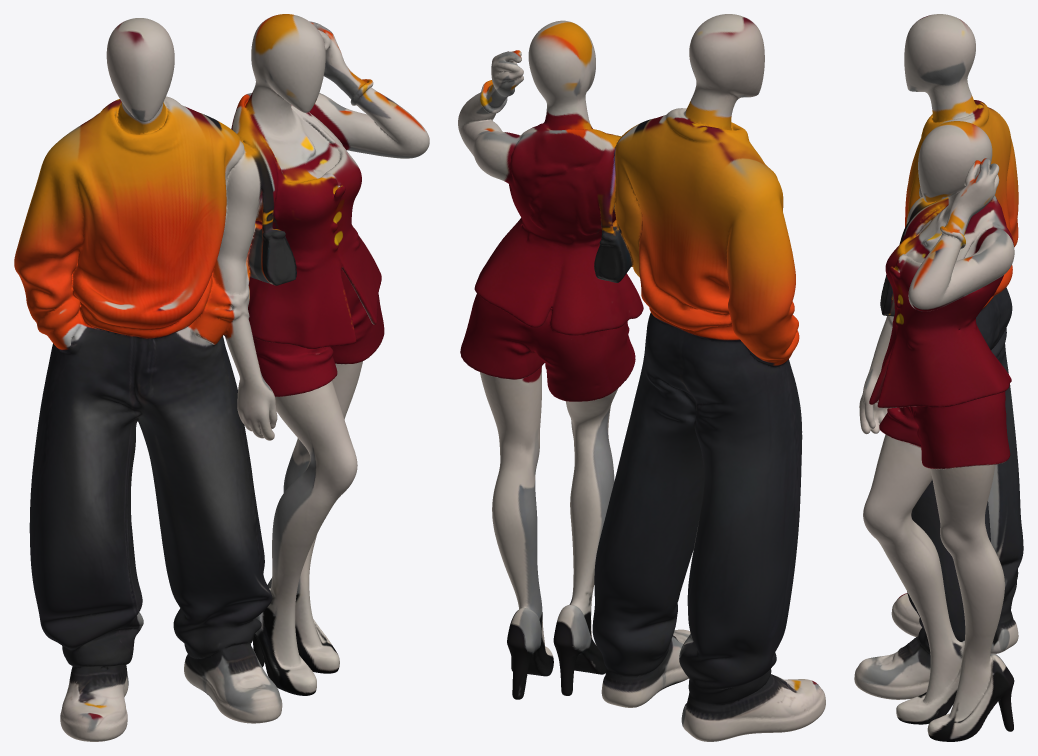
Rendered from fashion mannequin 3d model.glb.
3 renders of one model, left to right at view 1: azimuth 30°, elevation 25°; view 2: azimuth 150°, elevation 25°; view 3: azimuth 270°, elevation 25°, orthographic. The views are drawn at different scales.
Visible parts, largest first — view 1: tripo_node_67043119-5161-4efa-977a-bc7e51df53ee; view 2: tripo_node_67043119-5161-4efa-977a-bc7e51df53ee; view 3: tripo_node_67043119-5161-4efa-977a-bc7e51df53ee.
Part boxes in pixels (box(x1,y1,x2,y2)): tripo_node_67043119-5161-4efa-977a-bc7e51df53ee: box(14, 14, 429, 741); tripo_node_67043119-5161-4efa-977a-bc7e51df53ee: box(458, 14, 825, 741); tripo_node_67043119-5161-4efa-977a-bc7e51df53ee: box(854, 14, 1023, 741).
Size of the model in its own units: 0.5577 by 1 by 0.2402.
1 material, 1 textured.
